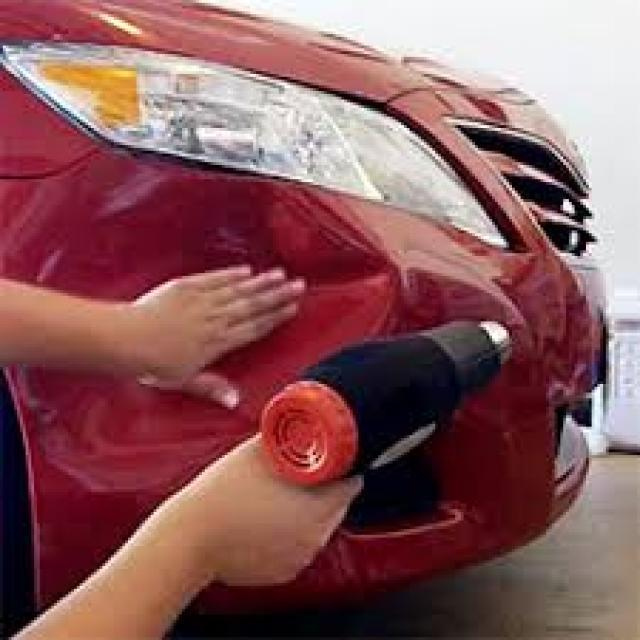dent-or-scratch: (32, 172, 424, 483)
